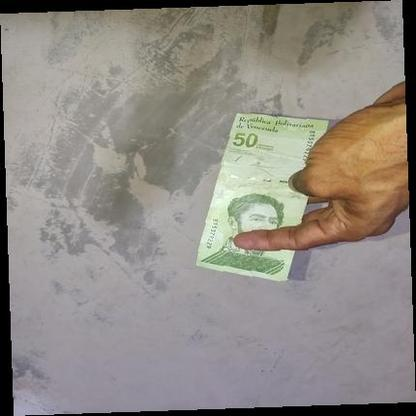fifty-front-vef: (193, 112, 330, 282)
